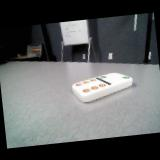domino: (71, 72, 132, 102)
